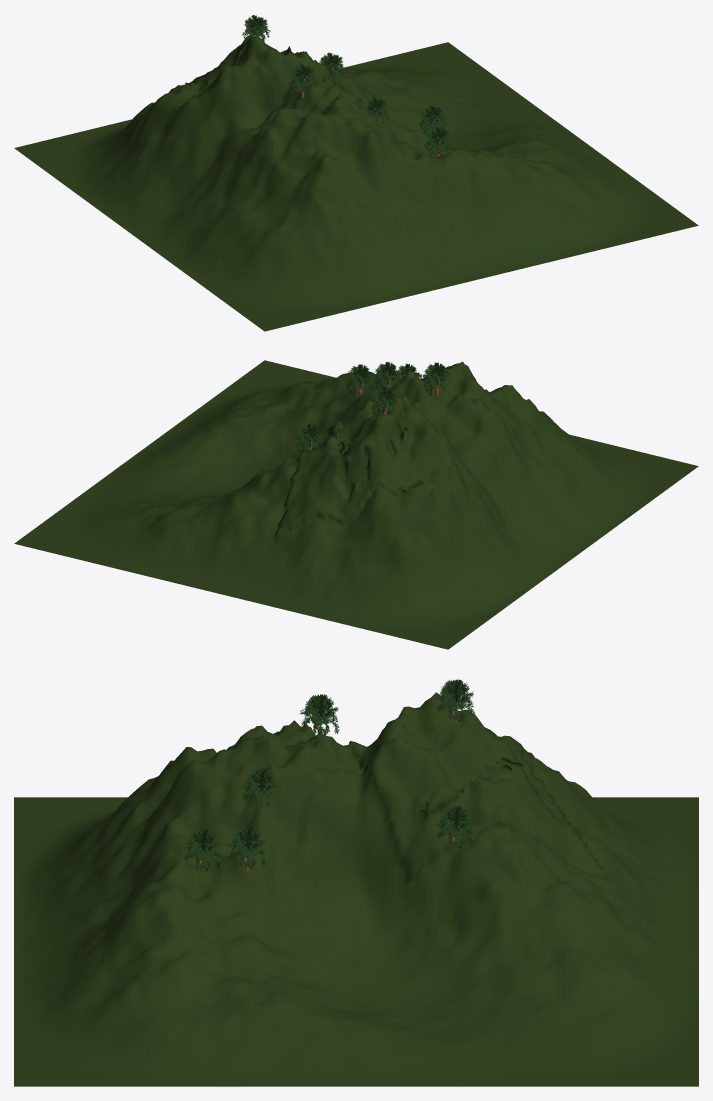
File: land3 1.fbx
3 renders of one model, top to bottom at view 1: azimuth 30°, elevation 25°; view 2: azimuth 150°, elevation 25°; view 3: azimuth 270°, elevation 25°, orthographic. The views are drawn at different scales.
Visible parts, largest first — view 1: Landscape, leaves.005, leaves.004, leaves.003, leaves.001; view 2: Landscape, leaves.005, leaves.003, leaves.001, leaves.002, leaves.004; view 3: Landscape, leaves.003, leaves.002, leaves.005, leaves.001, leaves.004, leaves.006.
Part boxes in pixels (x1,y1,x2,y2): Landscape: (14,35,698,331); leaves.005: (288,64,317,97); leaves.004: (424,126,452,157); leaves.003: (418,104,447,133); leaves.001: (241,15,270,41); Landscape: (14,360,698,649); leaves.005: (423,362,451,396); leaves.003: (346,364,375,397); leaves.001: (371,386,399,417); leaves.002: (295,423,324,452); leaves.004: (373,362,398,389); Landscape: (14,692,698,1086); leaves.003: (227,826,266,871); leaves.002: (435,806,475,848); leaves.005: (299,694,339,735); leaves.001: (435,679,475,721); leaves.004: (182,828,222,870); leaves.006: (240,768,278,808).
Size of the model in its own units: 718 by 254 by 718.
